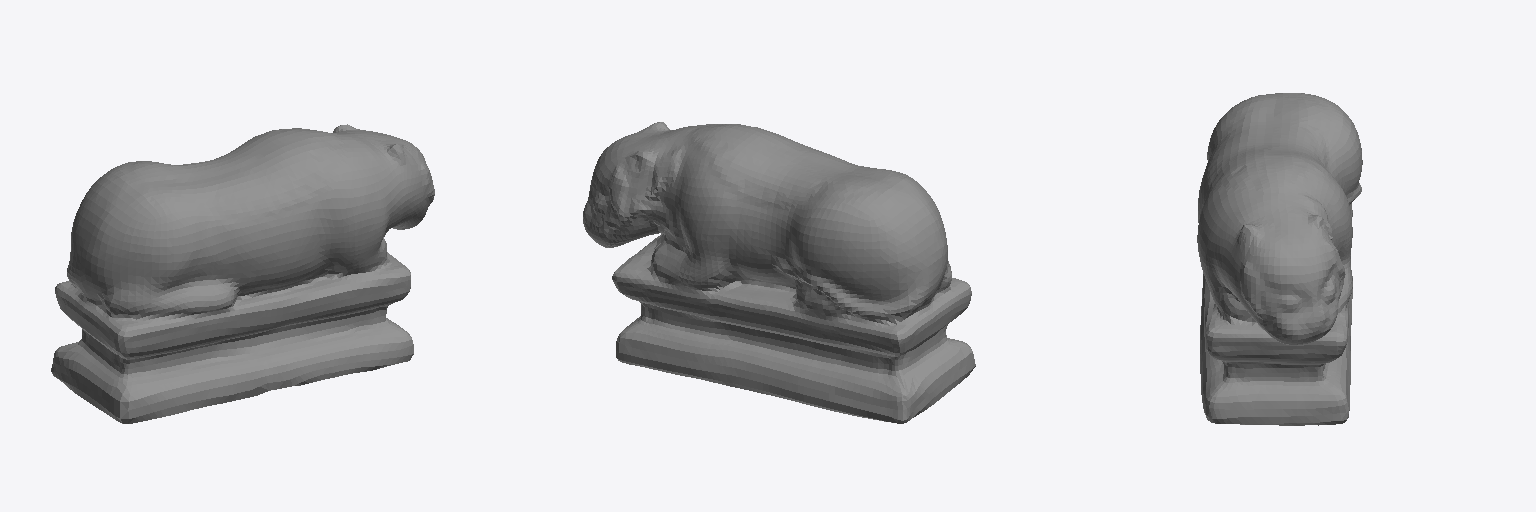
The picture shows the model from 3 angles: view 1: azimuth 30°, elevation 25°; view 2: azimuth 150°, elevation 25°; view 3: azimuth 270°, elevation 25°; orthographic projection.
Visible parts, largest first — view 1: SZB_lhf_136; view 2: SZB_lhf_136; view 3: SZB_lhf_136.
Part boxes in pixels (left/top/right/bottom): SZB_lhf_136: left=51, top=124, right=434, bottom=423; SZB_lhf_136: left=583, top=122, right=975, bottom=423; SZB_lhf_136: left=1197, top=93, right=1362, bottom=425.
Size of the model in its own units: 274 by 169 by 113.